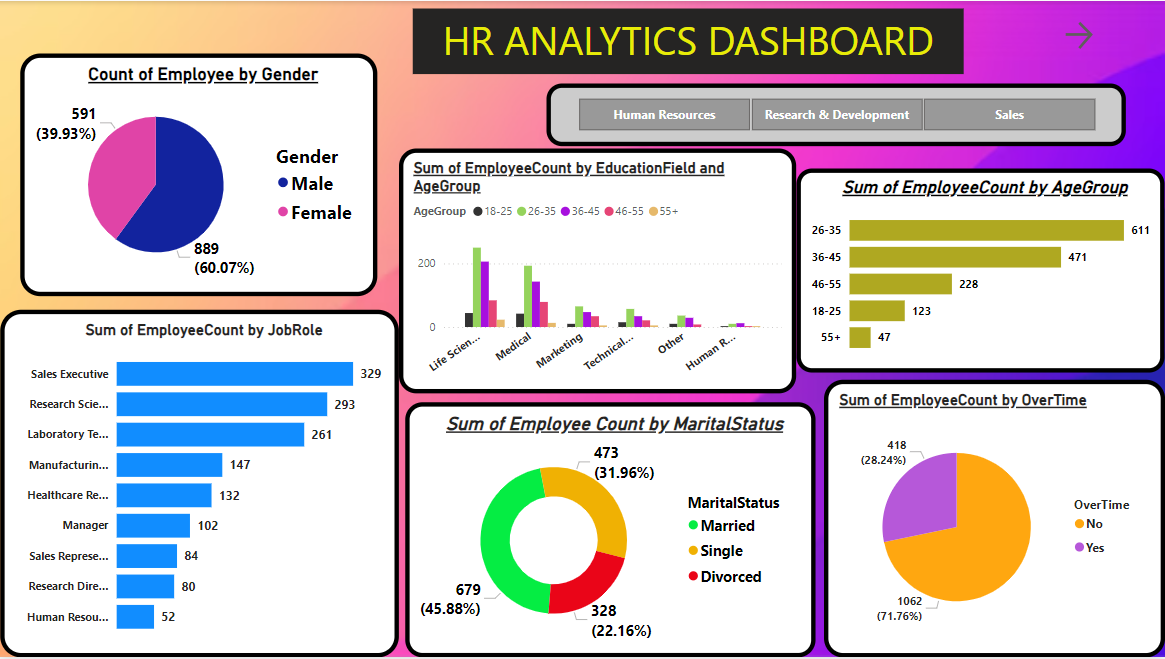

The dashboard page shown, as its layout file describes it:
{"tool":"powerbi","page":{"name":"Page 1","canvas":[1280,720],"ordinal":0},"visuals":[{"type":"pieChart","title":"Count of Employee by Gender","fields":{"Category":["HR_Analytics.Gender"],"Y":["CountNonNull(HR_Analytics.Gender)"]},"box":[22.9,57.9,392.1,266.6],"z":0},{"type":"donutChart","title":"Sum of Employee Count by MaritalStatus","fields":{"Category":["HR_Analytics.MaritalStatus"],"Y":["Sum(HR_Analytics.EmployeeCount)"]},"box":[446.4,440.4,450,279.9],"z":1000},{"type":"clusteredBarChart","fields":{"Category":["HR_Analytics.AgeGroup"],"Y":["Sum(HR_Analytics.EmployeeCount)"]},"box":[875.9,183.4,404.2,224.4],"z":2000},{"type":"textbox","box":[453.6,8.4,604.4,72.4],"z":3000},{"type":"clusteredColumnChart","fields":{"Y":["Sum(HR_Analytics.EmployeeCount)"],"Series":["HR_Analytics.AgeGroup"],"Category":["HR_Analytics.EducationField"]},"box":[439.1,161.9,436.4,269],"z":4000},{"type":"barChart","fields":{"Y":["Sum(HR_Analytics.EmployeeCount)"],"Category":["HR_Analytics.JobRole"]},"box":[1.2,339,437.9,381.2],"z":5000},{"type":"pieChart","fields":{"Category":["HR_Analytics.OverTime"],"Y":["Sum(HR_Analytics.EmployeeCount)"]},"box":[906,416.2,374,304],"z":6000},{"type":"slicer","fields":{"Values":["HR_Analytics.Department"]},"box":[600.8,90.5,635.8,68.8],"z":7000},{"type":"actionButton","box":[1165,17.8,100.2,39.8],"z":8000}]}

Visuals, with their boxes in screenshot pixels (x1, y1, x2, y2), scaled from the page's 1280x720 canvas onto the 1165x659 screenshot:
"Count of Employee by Gender" pieChart: 21,53,378,297
"Sum of Employee Count by MaritalStatus" donutChart: 406,403,816,658
clusteredBarChart - HR_Analytics.AgeGroup x Sum(HR_Analytics.EmployeeCount): 797,168,1164,373
textbox: 413,8,963,74
clusteredColumnChart - Sum(HR_Analytics.EmployeeCount) x HR_Analytics.AgeGroup: 400,148,797,394
barChart - Sum(HR_Analytics.EmployeeCount) x HR_Analytics.JobRole: 1,310,400,658
pieChart - HR_Analytics.OverTime x Sum(HR_Analytics.EmployeeCount): 825,381,1164,658
slicer - HR_Analytics.Department: 547,83,1125,146
actionButton: 1060,16,1152,53
